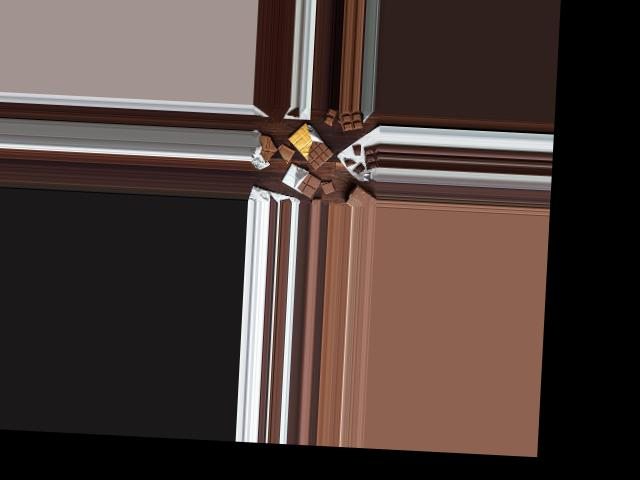chocolate: (283, 162, 322, 202)
